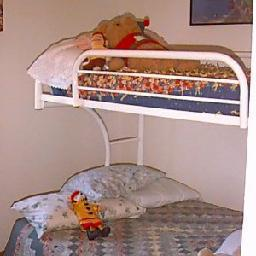Cama: (32, 28, 244, 124), (13, 168, 237, 253)
